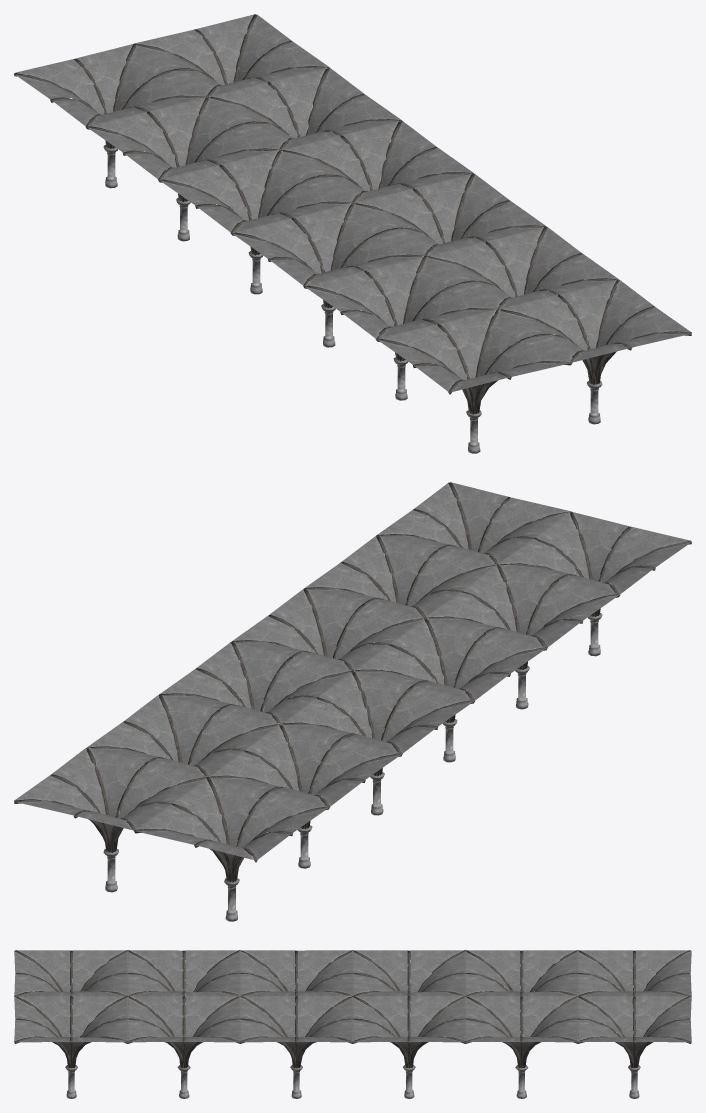
Rendered from アーチの軍勢.fbx.
3 renders of one model, top to bottom at view 1: azimuth 30°, elevation 25°; view 2: azimuth 150°, elevation 25°; view 3: azimuth 270°, elevation 25°, orthographic. The views are drawn at different scales.
Parts seen in each view (by area): view 1: roof_top2_4, crypt_pillar_10; view 2: roof_top2_4, crypt_pillar_10; view 3: roof_top2_4, crypt_pillar_10.
Part boxes in pixels (x1,y1,x2,y2): roof_top2_4: (14,14,691,414); crypt_pillar_10: (103,145,602,453); roof_top2_4: (14,482,691,882); crypt_pillar_10: (103,613,602,921); roof_top2_4: (14,950,691,1068); crypt_pillar_10: (65,1065,640,1098).
Size of the model in its own units: 1295 by 510 by 4017.
